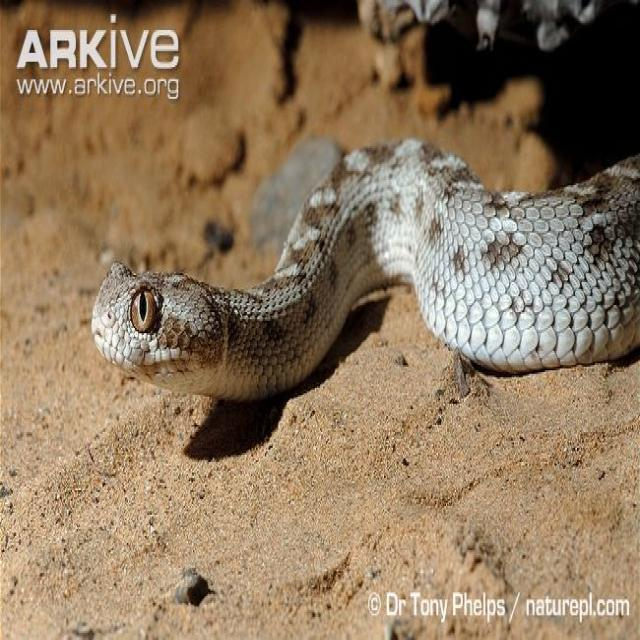Snake: (91, 123, 640, 400)
